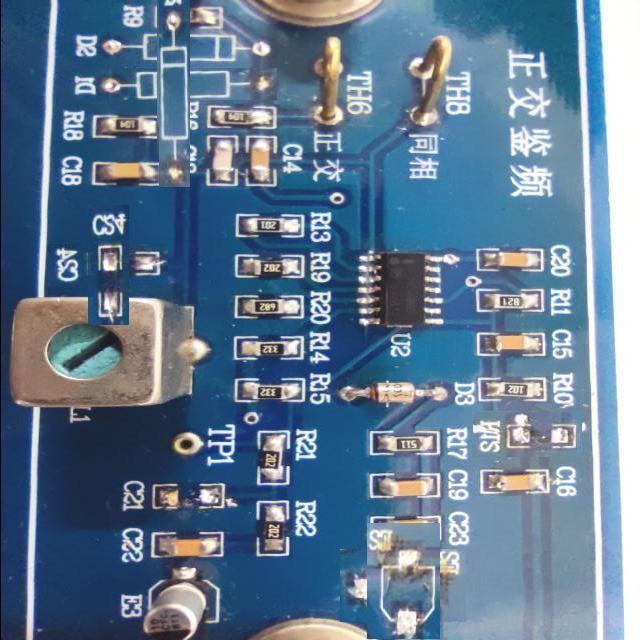miss_welding: (114, 24, 233, 144), (112, 0, 235, 108), (354, 536, 453, 635), (68, 224, 148, 306), (472, 411, 582, 457), (116, 476, 235, 517)
